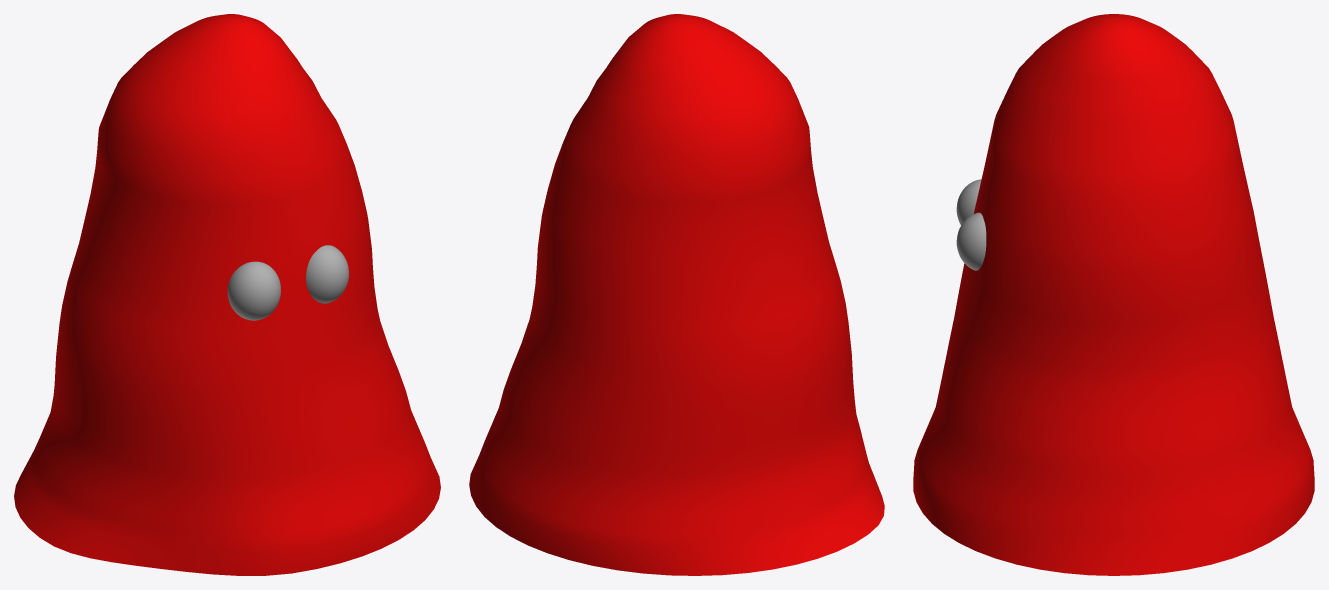
The model's file is Ghost.fbx.
3 views of the same model, side by side, from view 1: azimuth 30°, elevation 25°; view 2: azimuth 150°, elevation 25°; view 3: azimuth 270°, elevation 25° (orthographic).
Parts seen in each view (by area): view 1: pCylinder1, pSphere1, pSphere2; view 2: pCylinder1; view 3: pCylinder1, pSphere2, pSphere1.
Boxes of the visible parts, box(x1,y1,x2,y2) form: pCylinder1: box(14, 14, 440, 575); pSphere1: box(227, 261, 280, 320); pSphere2: box(306, 245, 348, 303); pCylinder1: box(469, 14, 884, 575); pCylinder1: box(913, 14, 1314, 575); pSphere2: box(956, 212, 986, 270); pSphere1: box(956, 179, 981, 225).
Size of the model in its own units: 1.65 by 1.98 by 1.54.
